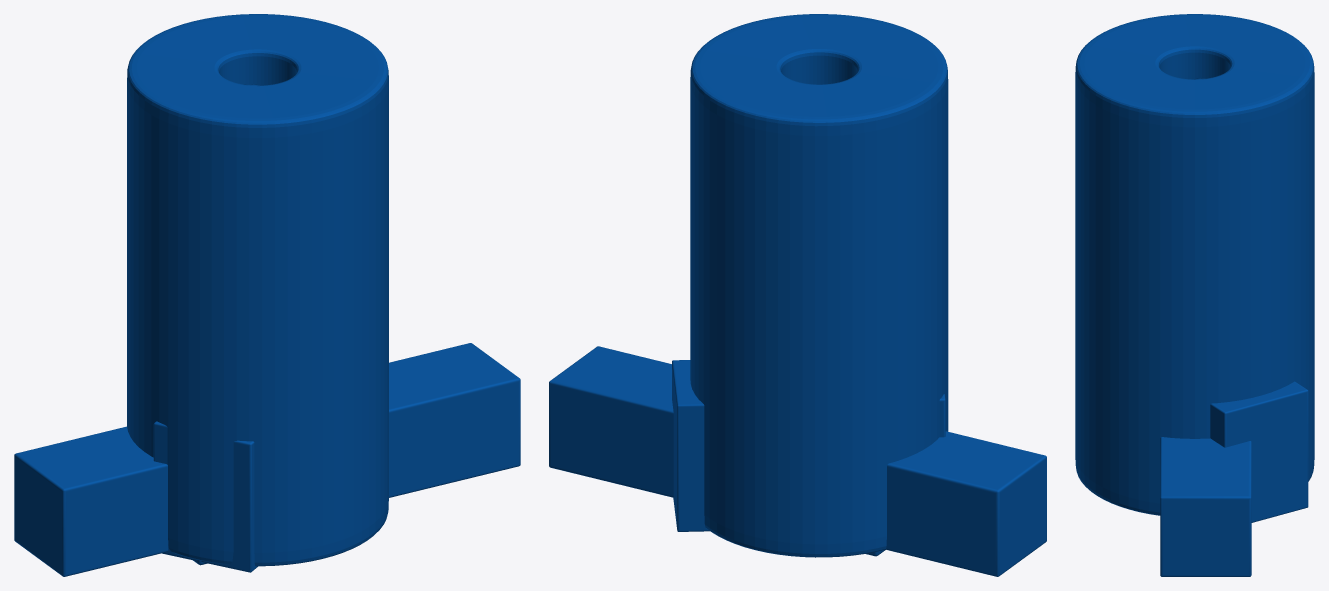
The model's file is PRODUCTOS.glb.
The picture shows the model from 3 angles, left to right: view 1: azimuth 30°, elevation 25°; view 2: azimuth 150°, elevation 25°; view 3: azimuth 270°, elevation 25°; orthographic projection. The views are drawn at different scales.
Visible parts, largest first — view 1: Cylinder.059_toiletpaper.001_0, box, box02; view 2: Cylinder.059_toiletpaper.001_0, box, box02; view 3: Cylinder.059_toiletpaper.001_0, box, box02.
Boxes of the visible parts, box(x1,y1,x2,y2) form: Cylinder.059_toiletpaper.001_0: box(127, 14, 388, 566); box: box(14, 343, 520, 576); box02: box(153, 421, 257, 572); Cylinder.059_toiletpaper.001_0: box(690, 14, 948, 557); box: box(549, 346, 1046, 576); box02: box(672, 360, 945, 531); Cylinder.059_toiletpaper.001_0: box(1075, 14, 1314, 515); box: box(1160, 437, 1251, 576); box02: box(1210, 381, 1308, 522).
Bounding box in the file's own units: 0.6712 × 0.6321 × 0.3329.
